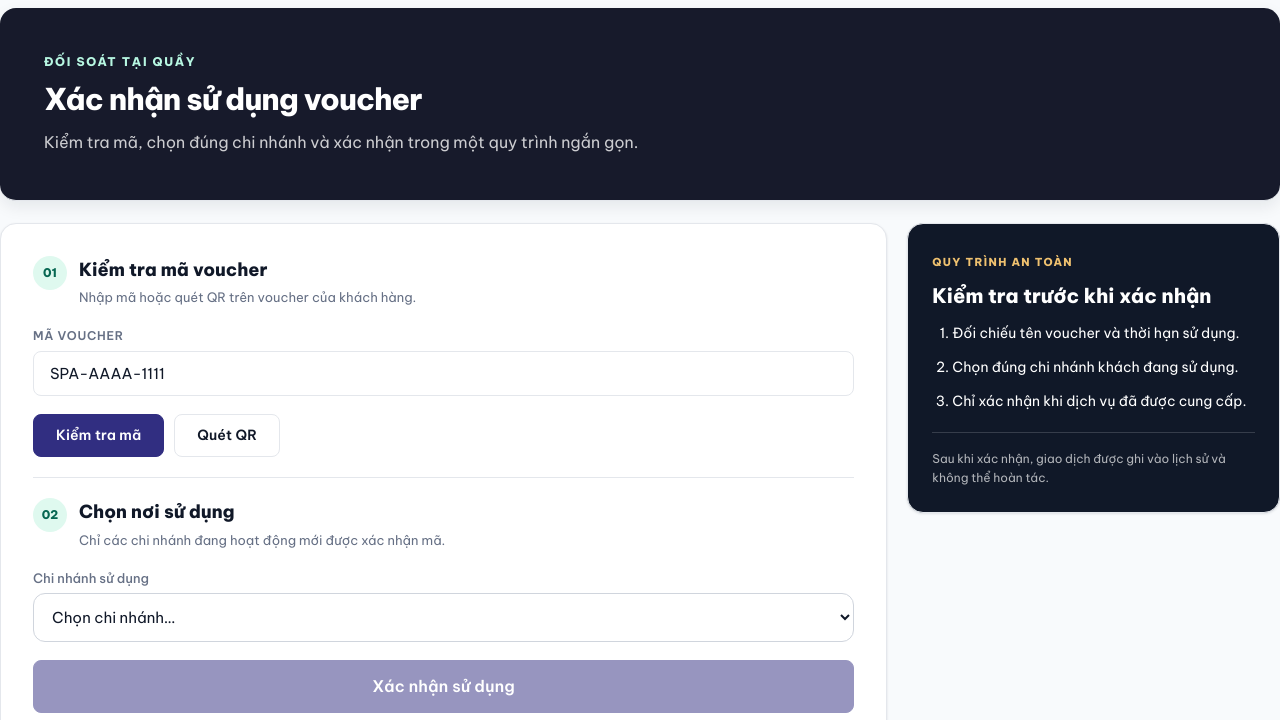
Test: RedeemCodePage › shows the branch-not-owned message (Req 19.3)
This screenshot has width=1280, height=720.
Expected: the dropdown with test id "branch-select" is shown, [33,593,854,642]
Click the button with test id "validate-code-btn" at [99, 436], box [33,414,164,457]
(page scrolled)
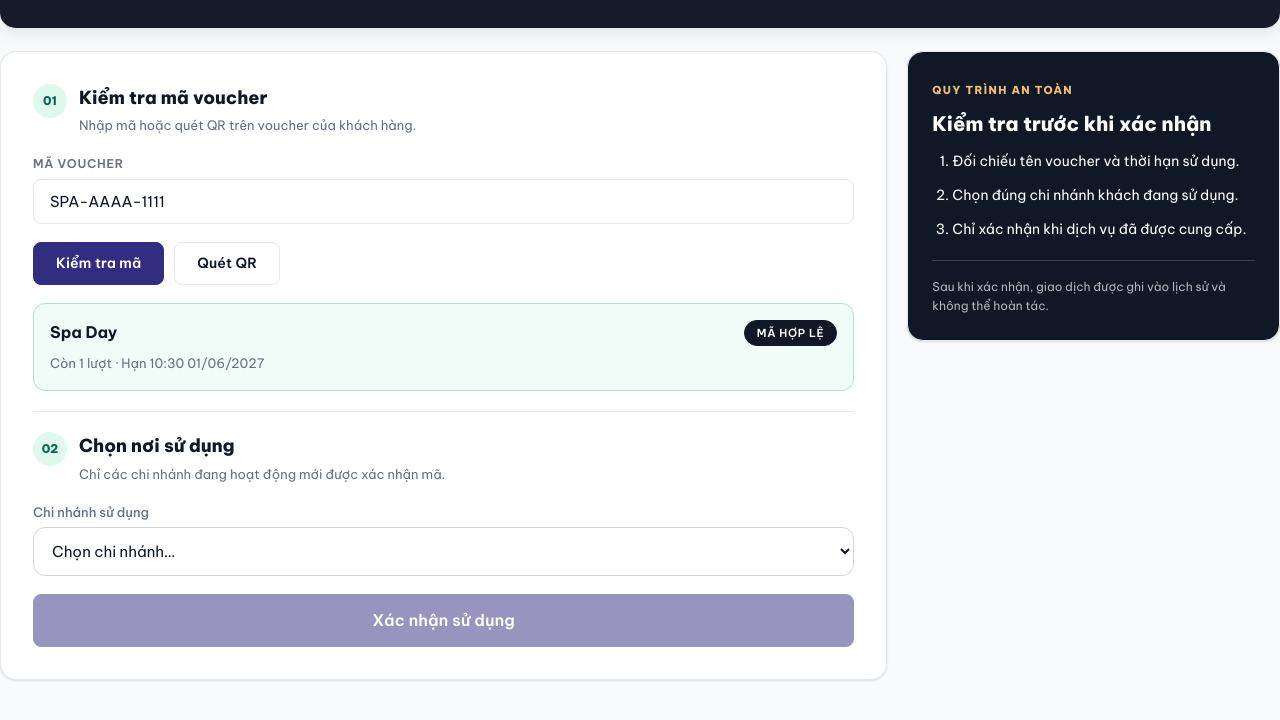
Expected: the text "Mã hợp lệ" is shown, [744,320,837,346]
Select "Downtown Spa — Hà Nội" in the dropdown with test id "branch-select" at [444, 552], box [33,527,854,576]
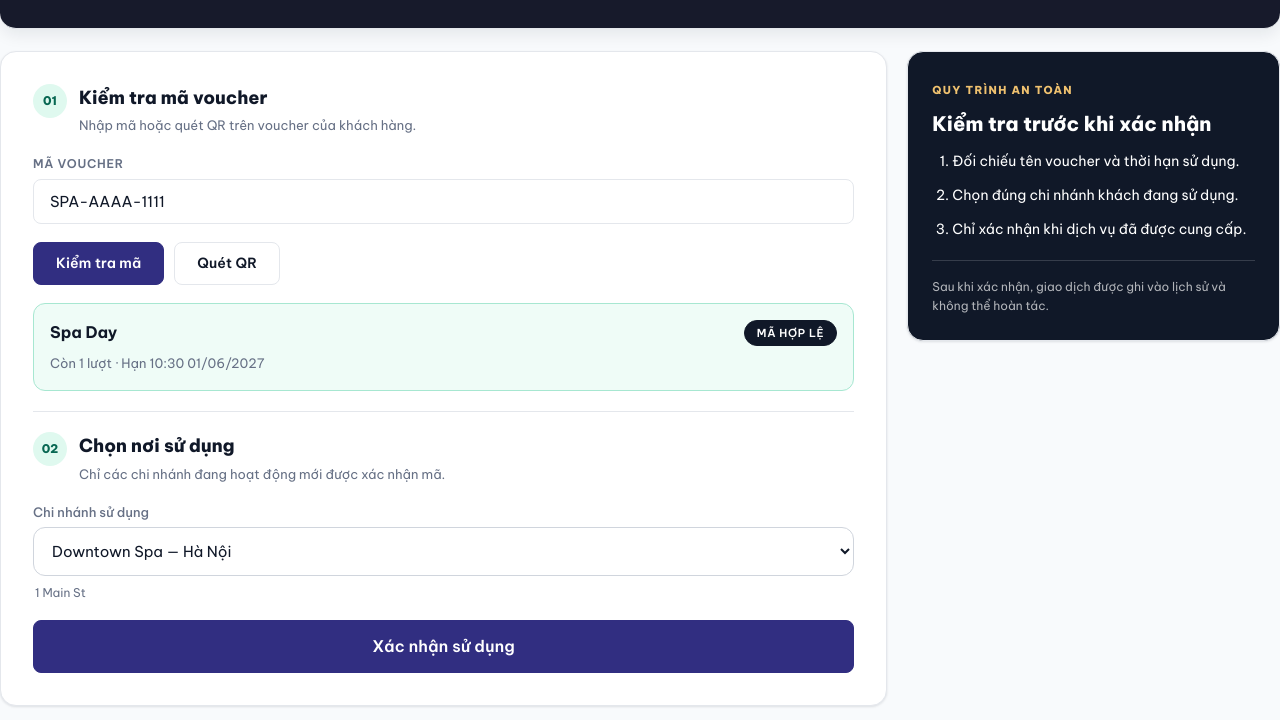
Click the button "Xác nhận sử dụng" at [444, 647], box [33,620,854,673]
(page scrolled)
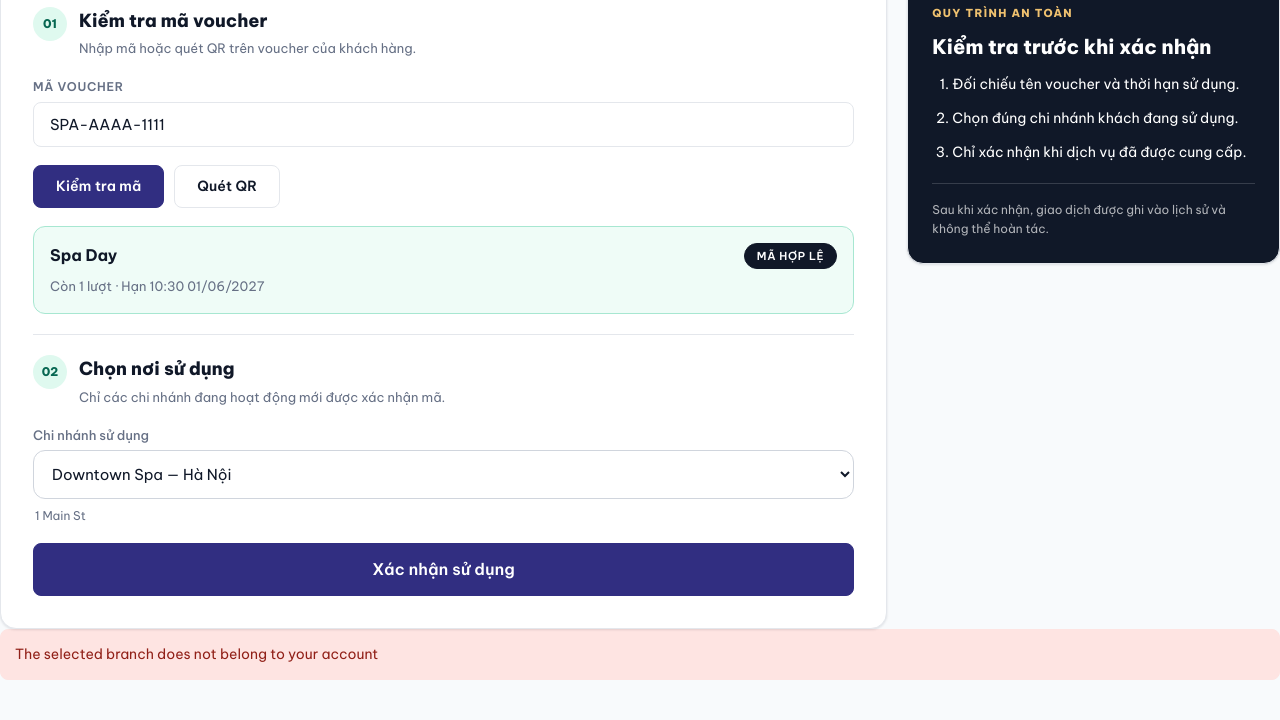
Expected: the message with test id "redeem-error" shows "does not belong to your account", [15,645,378,663]
